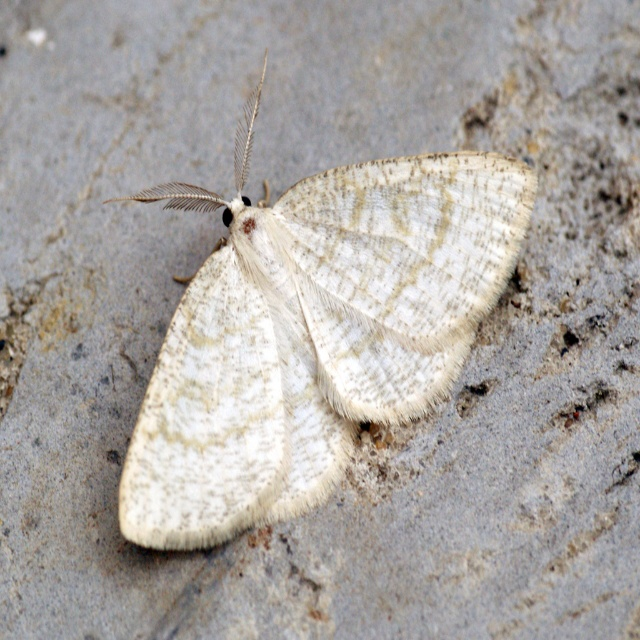Butterfly: (118, 45, 536, 551)
